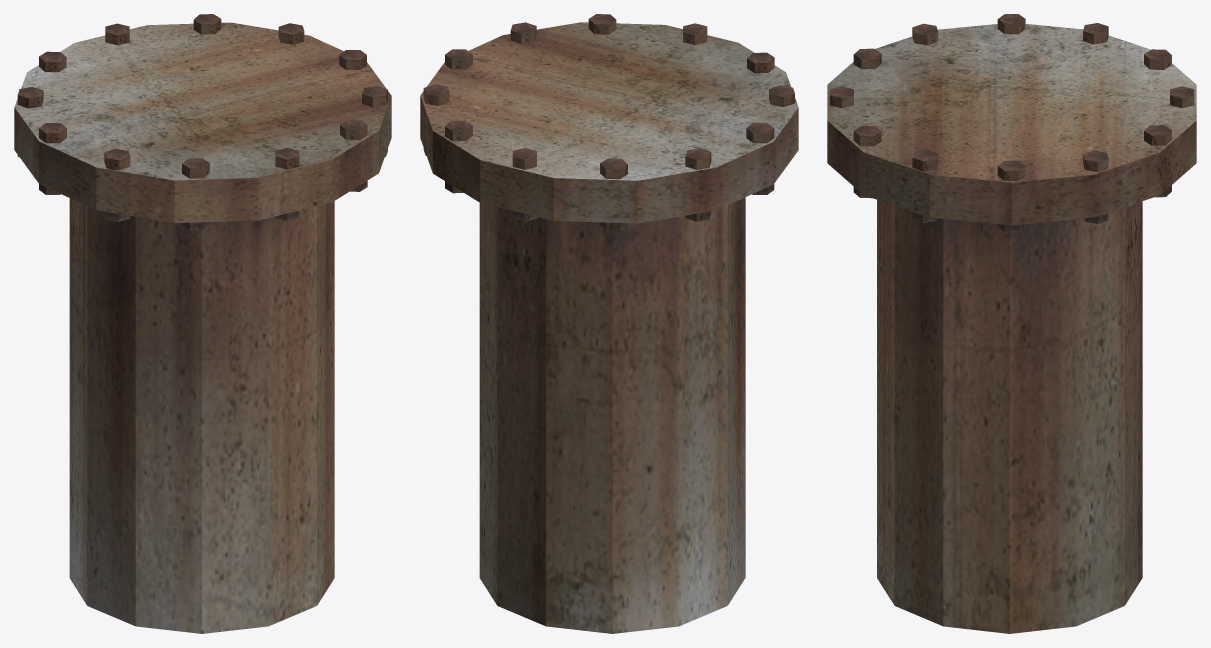
File: pipe_7.DAE
3 renders of one model, left to right at view 1: azimuth 30°, elevation 25°; view 2: azimuth 150°, elevation 25°; view 3: azimuth 270°, elevation 25°, orthographic.
Visible parts, largest first — view 1: Mesh_Object; view 2: Mesh_Object; view 3: Mesh_Object.
Part boxes in pixels (x1,y1,x2,y2): Mesh_Object: [14, 14, 391, 633]; Mesh_Object: [420, 14, 798, 633]; Mesh_Object: [827, 14, 1196, 633].
Bounding box in the file's own units: 1.25 × 1.77 × 1.22.
